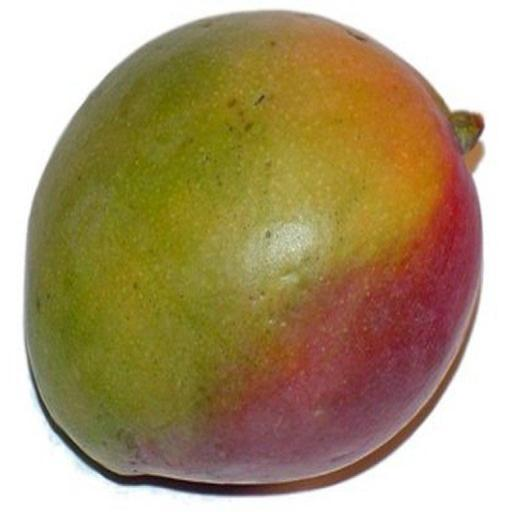mango: (26, 12, 481, 482)
